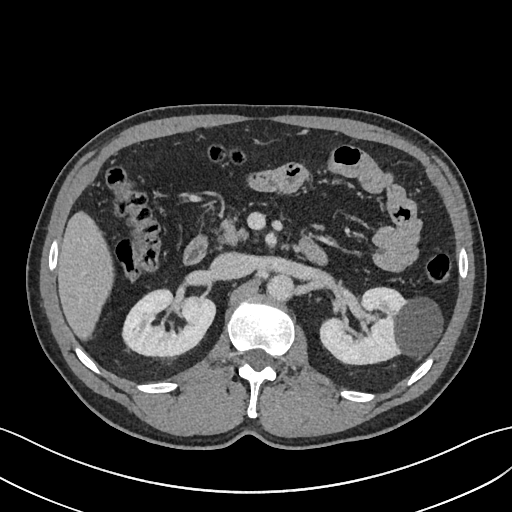Lesion: (391, 290, 446, 364)
